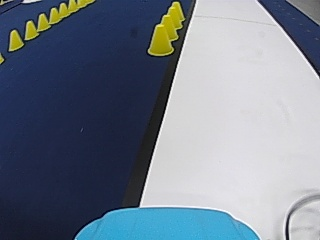cone: (146, 21, 174, 56), (158, 14, 178, 40), (166, 1, 184, 28), (7, 28, 24, 50), (24, 19, 38, 39), (36, 12, 49, 31), (48, 6, 59, 24), (58, 2, 68, 16), (68, 0, 76, 11)
